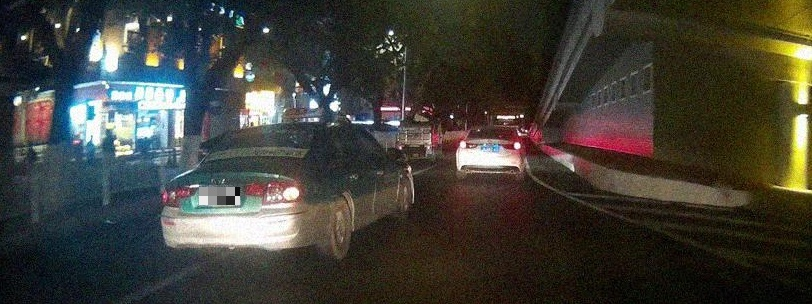L_light: (162, 187, 195, 208), (460, 141, 478, 149)
R_light: (246, 181, 304, 205), (499, 142, 521, 150)
T_light: (234, 156, 256, 162), (488, 129, 496, 131)
night-no: (457, 127, 522, 182)
night-right: (161, 122, 332, 263)
plate_1: (199, 187, 240, 205)
